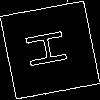H: (25, 25, 77, 70)
